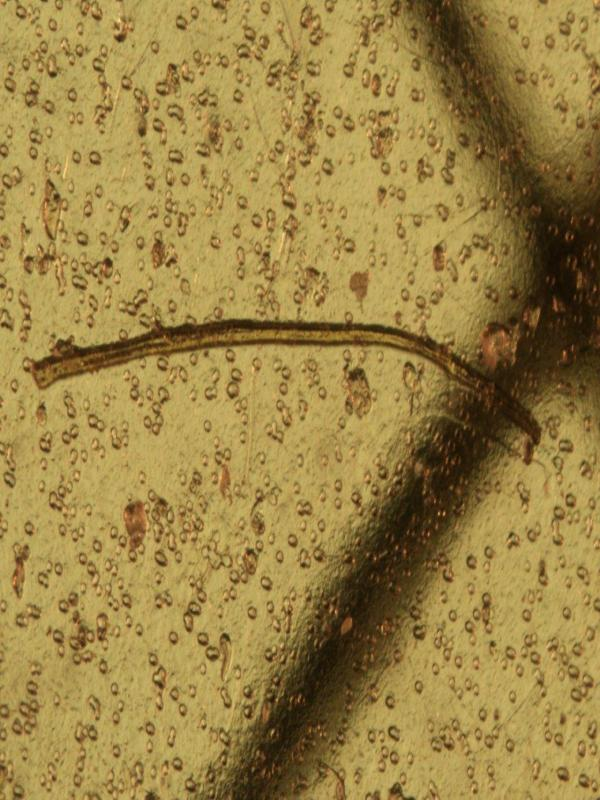microplastic: (1, 1, 598, 797), (23, 314, 542, 449)
